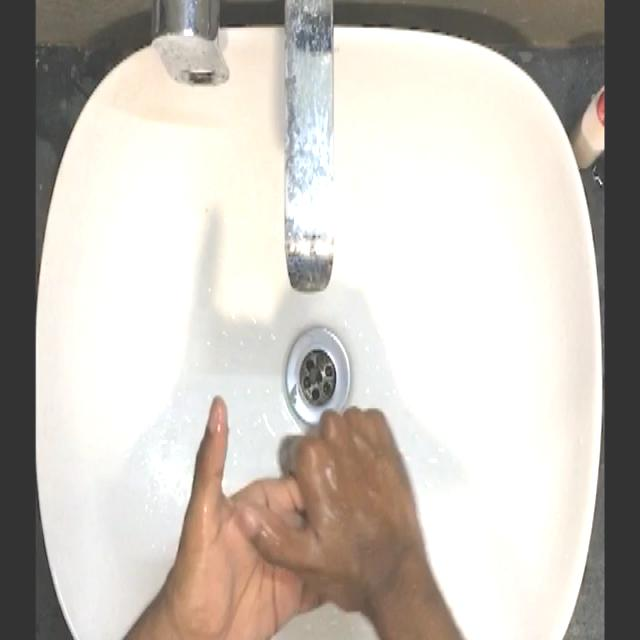step_5: (180, 393, 424, 627)
